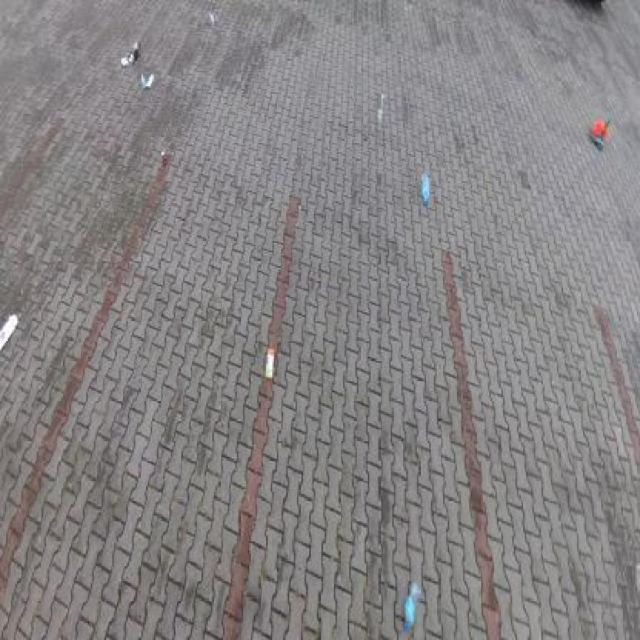Garbage: (403, 579, 420, 630), (0, 313, 19, 352), (591, 118, 610, 140), (265, 347, 275, 378), (588, 132, 603, 152), (421, 173, 430, 206), (207, 0, 215, 29), (599, 119, 610, 140), (377, 94, 384, 122), (132, 40, 140, 59), (146, 75, 154, 88), (120, 55, 129, 66), (161, 151, 167, 167), (128, 53, 135, 66), (140, 74, 146, 86)
